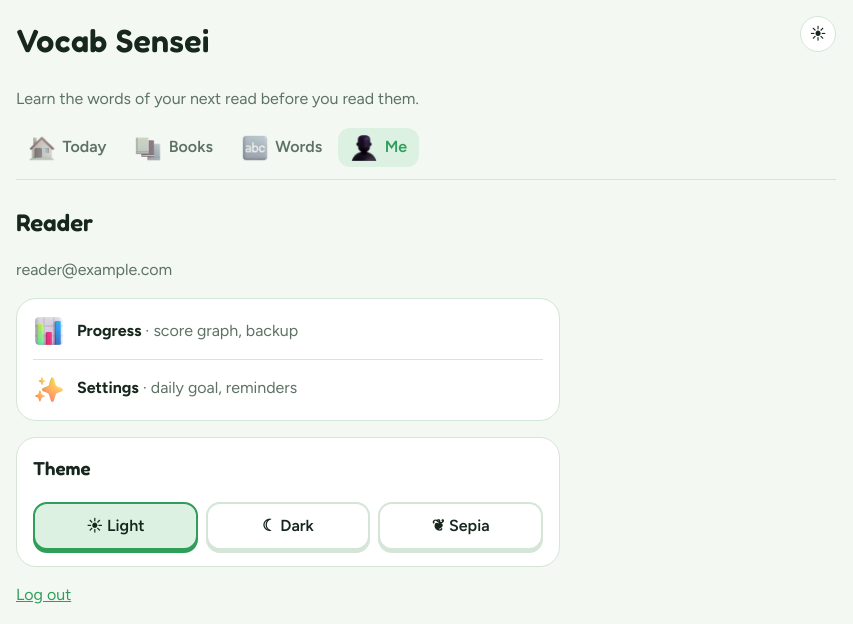
Scenario: Me tab › logs out
Step 1. Click the button "Log out" → (44, 596), box left=16, top=583, right=71, bottom=608
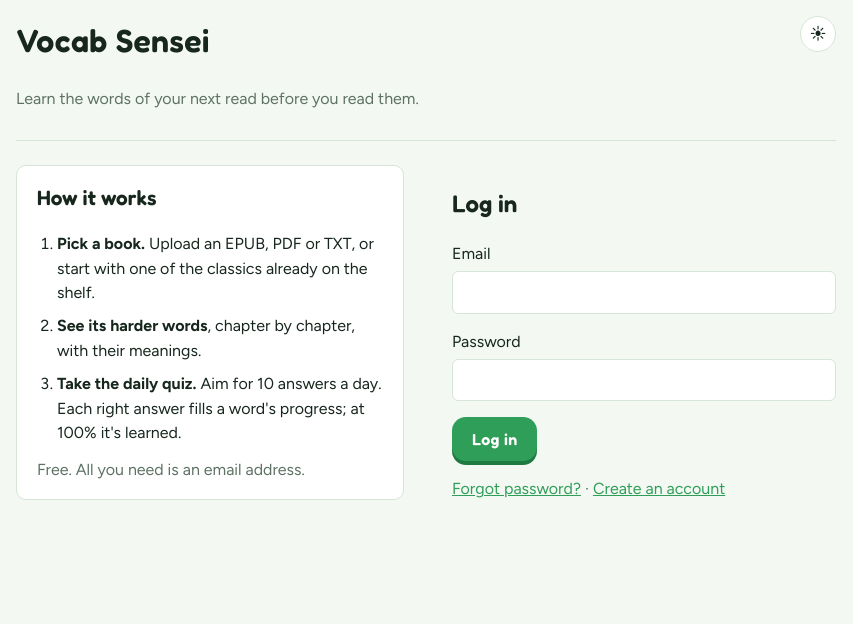
Expected: the heading "Log in" is shown, left=452, top=189, right=517, bottom=218
